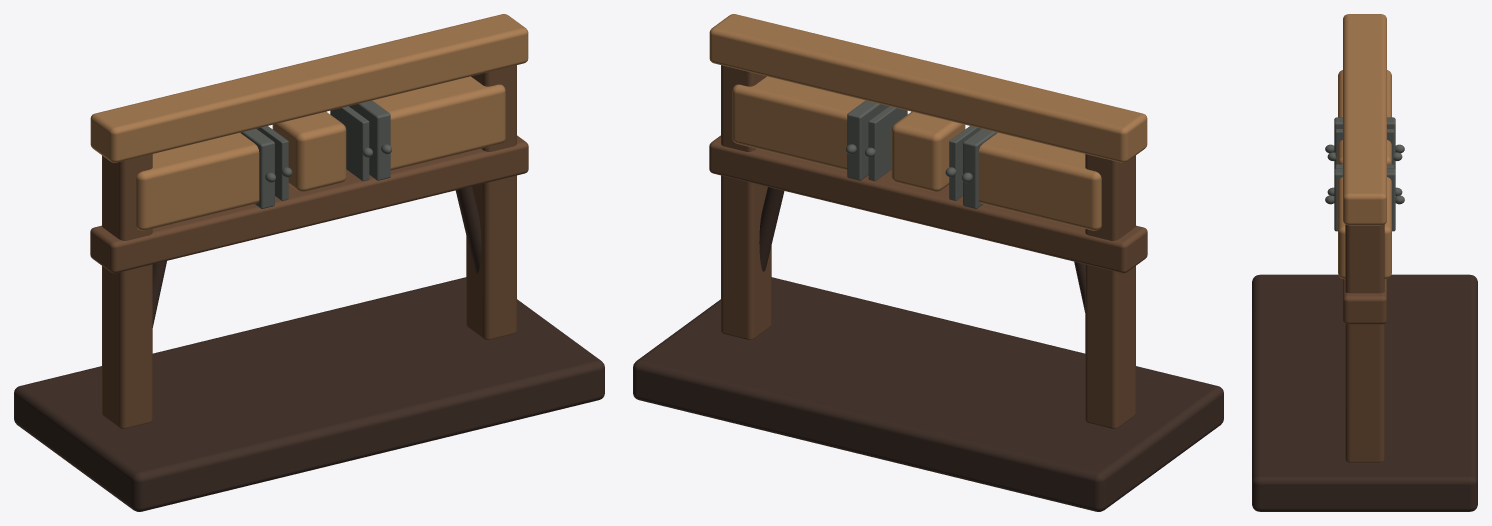
File: detail_pillory.glb
3 renders of one model, left to right at view 1: azimuth 30°, elevation 25°; view 2: azimuth 150°, elevation 25°; view 3: azimuth 270°, elevation 25°, orthographic. The views are drawn at different scales.
Visible parts, largest first — view 1: wood, metal, stone; view 2: wood, metal, stone; view 3: wood, metal, stone.
Part boxes in pixels (box(x1,y1,x2,y2)): wood: box(14, 14, 604, 511); metal: box(240, 100, 391, 208); stone: box(256, 106, 369, 200); wood: box(633, 14, 1223, 511); metal: box(846, 100, 997, 208); stone: box(868, 106, 981, 200); wood: box(1252, 14, 1477, 511); metal: box(1325, 117, 1404, 231); stone: box(1335, 129, 1394, 168).
Size of the model in its own units: 2.6 by 1.8 by 1.2.
